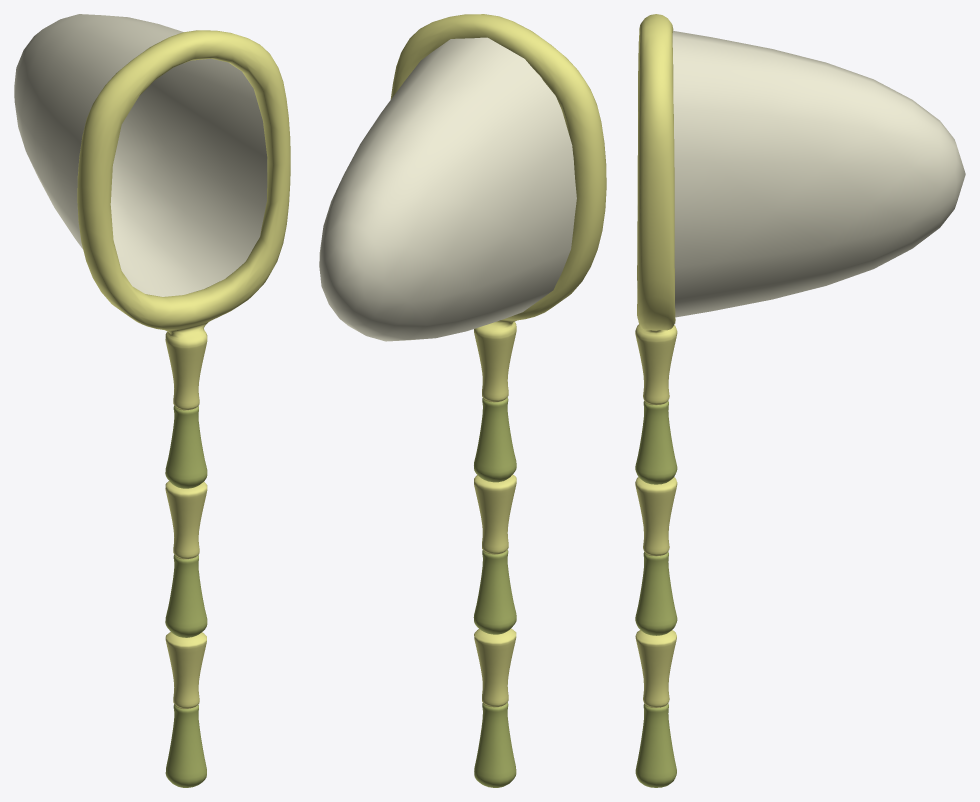
The model's file is SpongeBob's Jellyfish Cashing Net.fbx.
The picture shows the model from 3 angles, left to right: view 1: azimuth 30°, elevation 25°; view 2: azimuth 150°, elevation 25°; view 3: azimuth 270°, elevation 25°; orthographic projection. The views are drawn at different scales.
Parts seen in each view (by area): view 1: net, wood; view 2: net, wood; view 3: net, wood.
Boxes of the visible parts, box(x1,y1,x2,y2) form: net: box(14, 14, 267, 296); wood: box(77, 30, 290, 787); net: box(319, 37, 576, 341); wood: box(390, 14, 606, 787); net: box(672, 31, 965, 317); wood: box(635, 14, 677, 787).
Bounding box in the file's own units: 0.7784 × 2.7 × 1.06.
